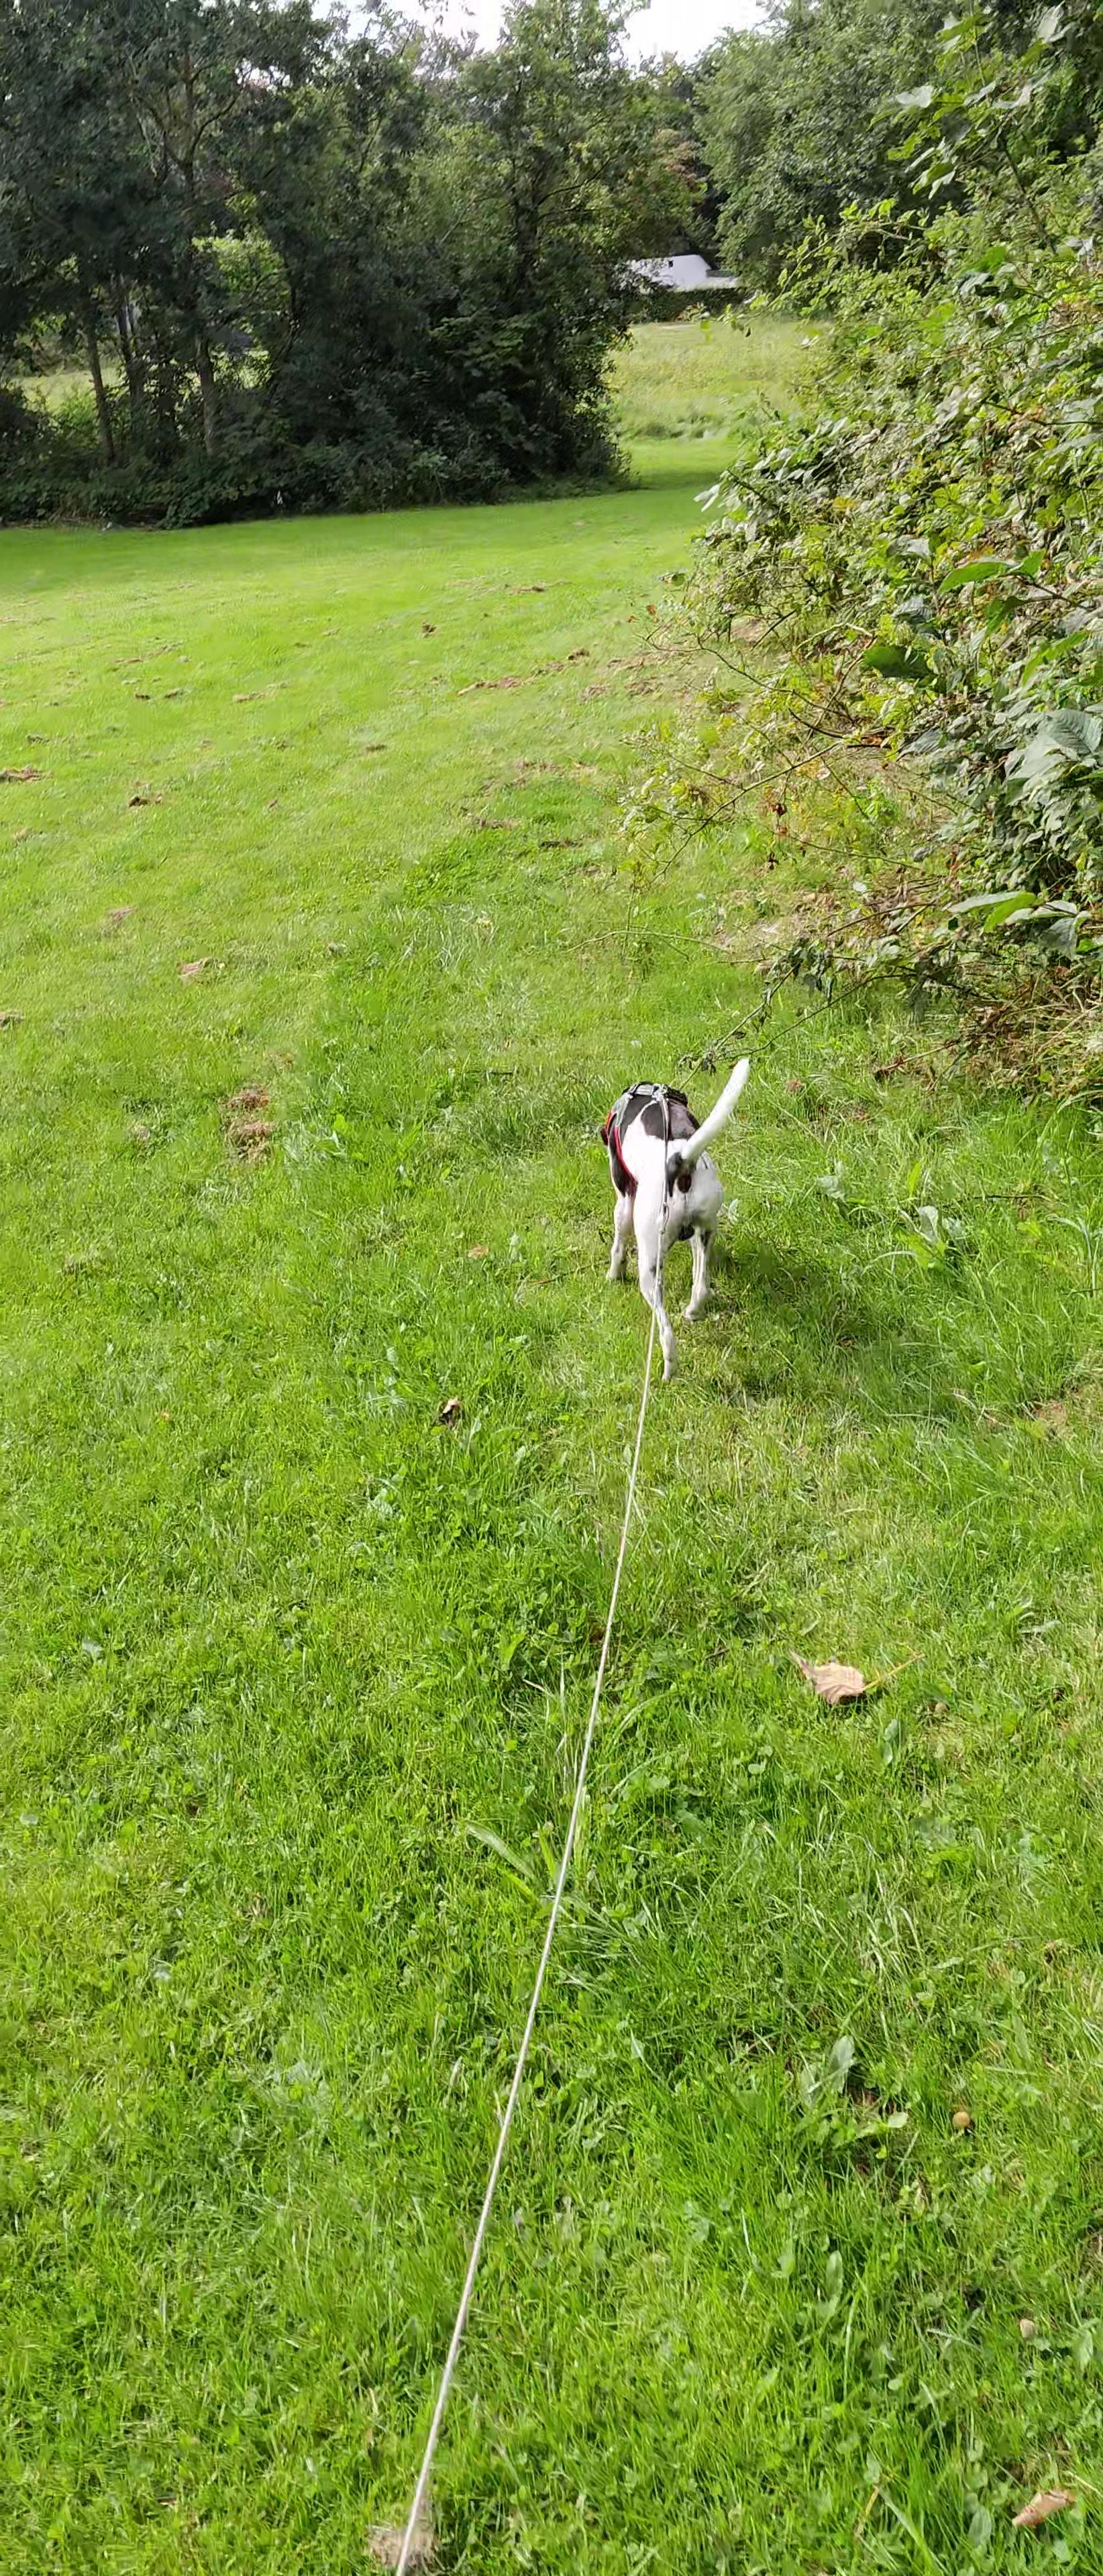Dog: (595, 1051, 759, 1391)
